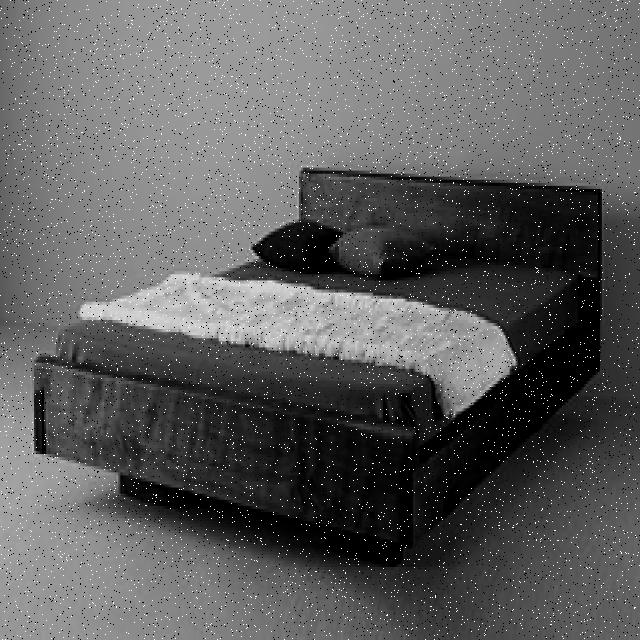bed: (37, 168, 605, 559)
